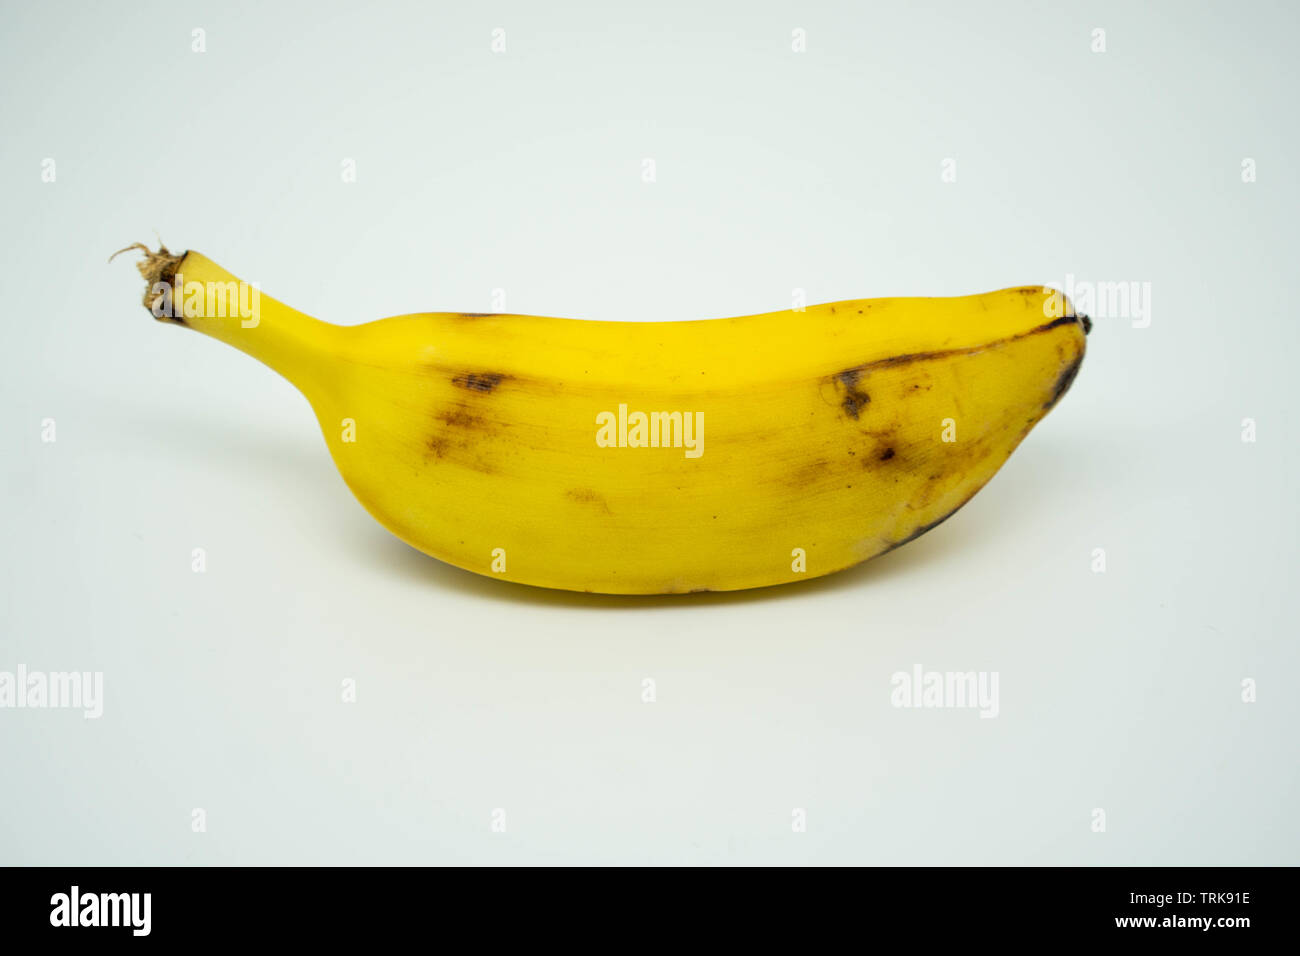banana: (102, 196, 1229, 625)
